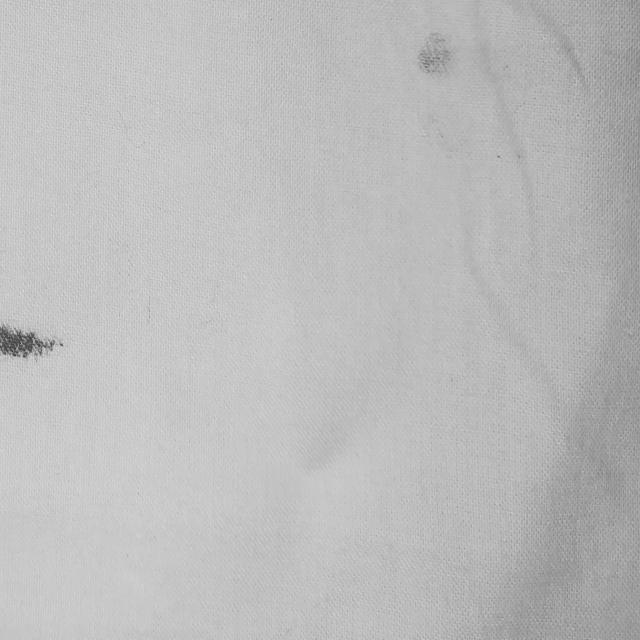Stain: (417, 31, 457, 82), (0, 324, 55, 358)
